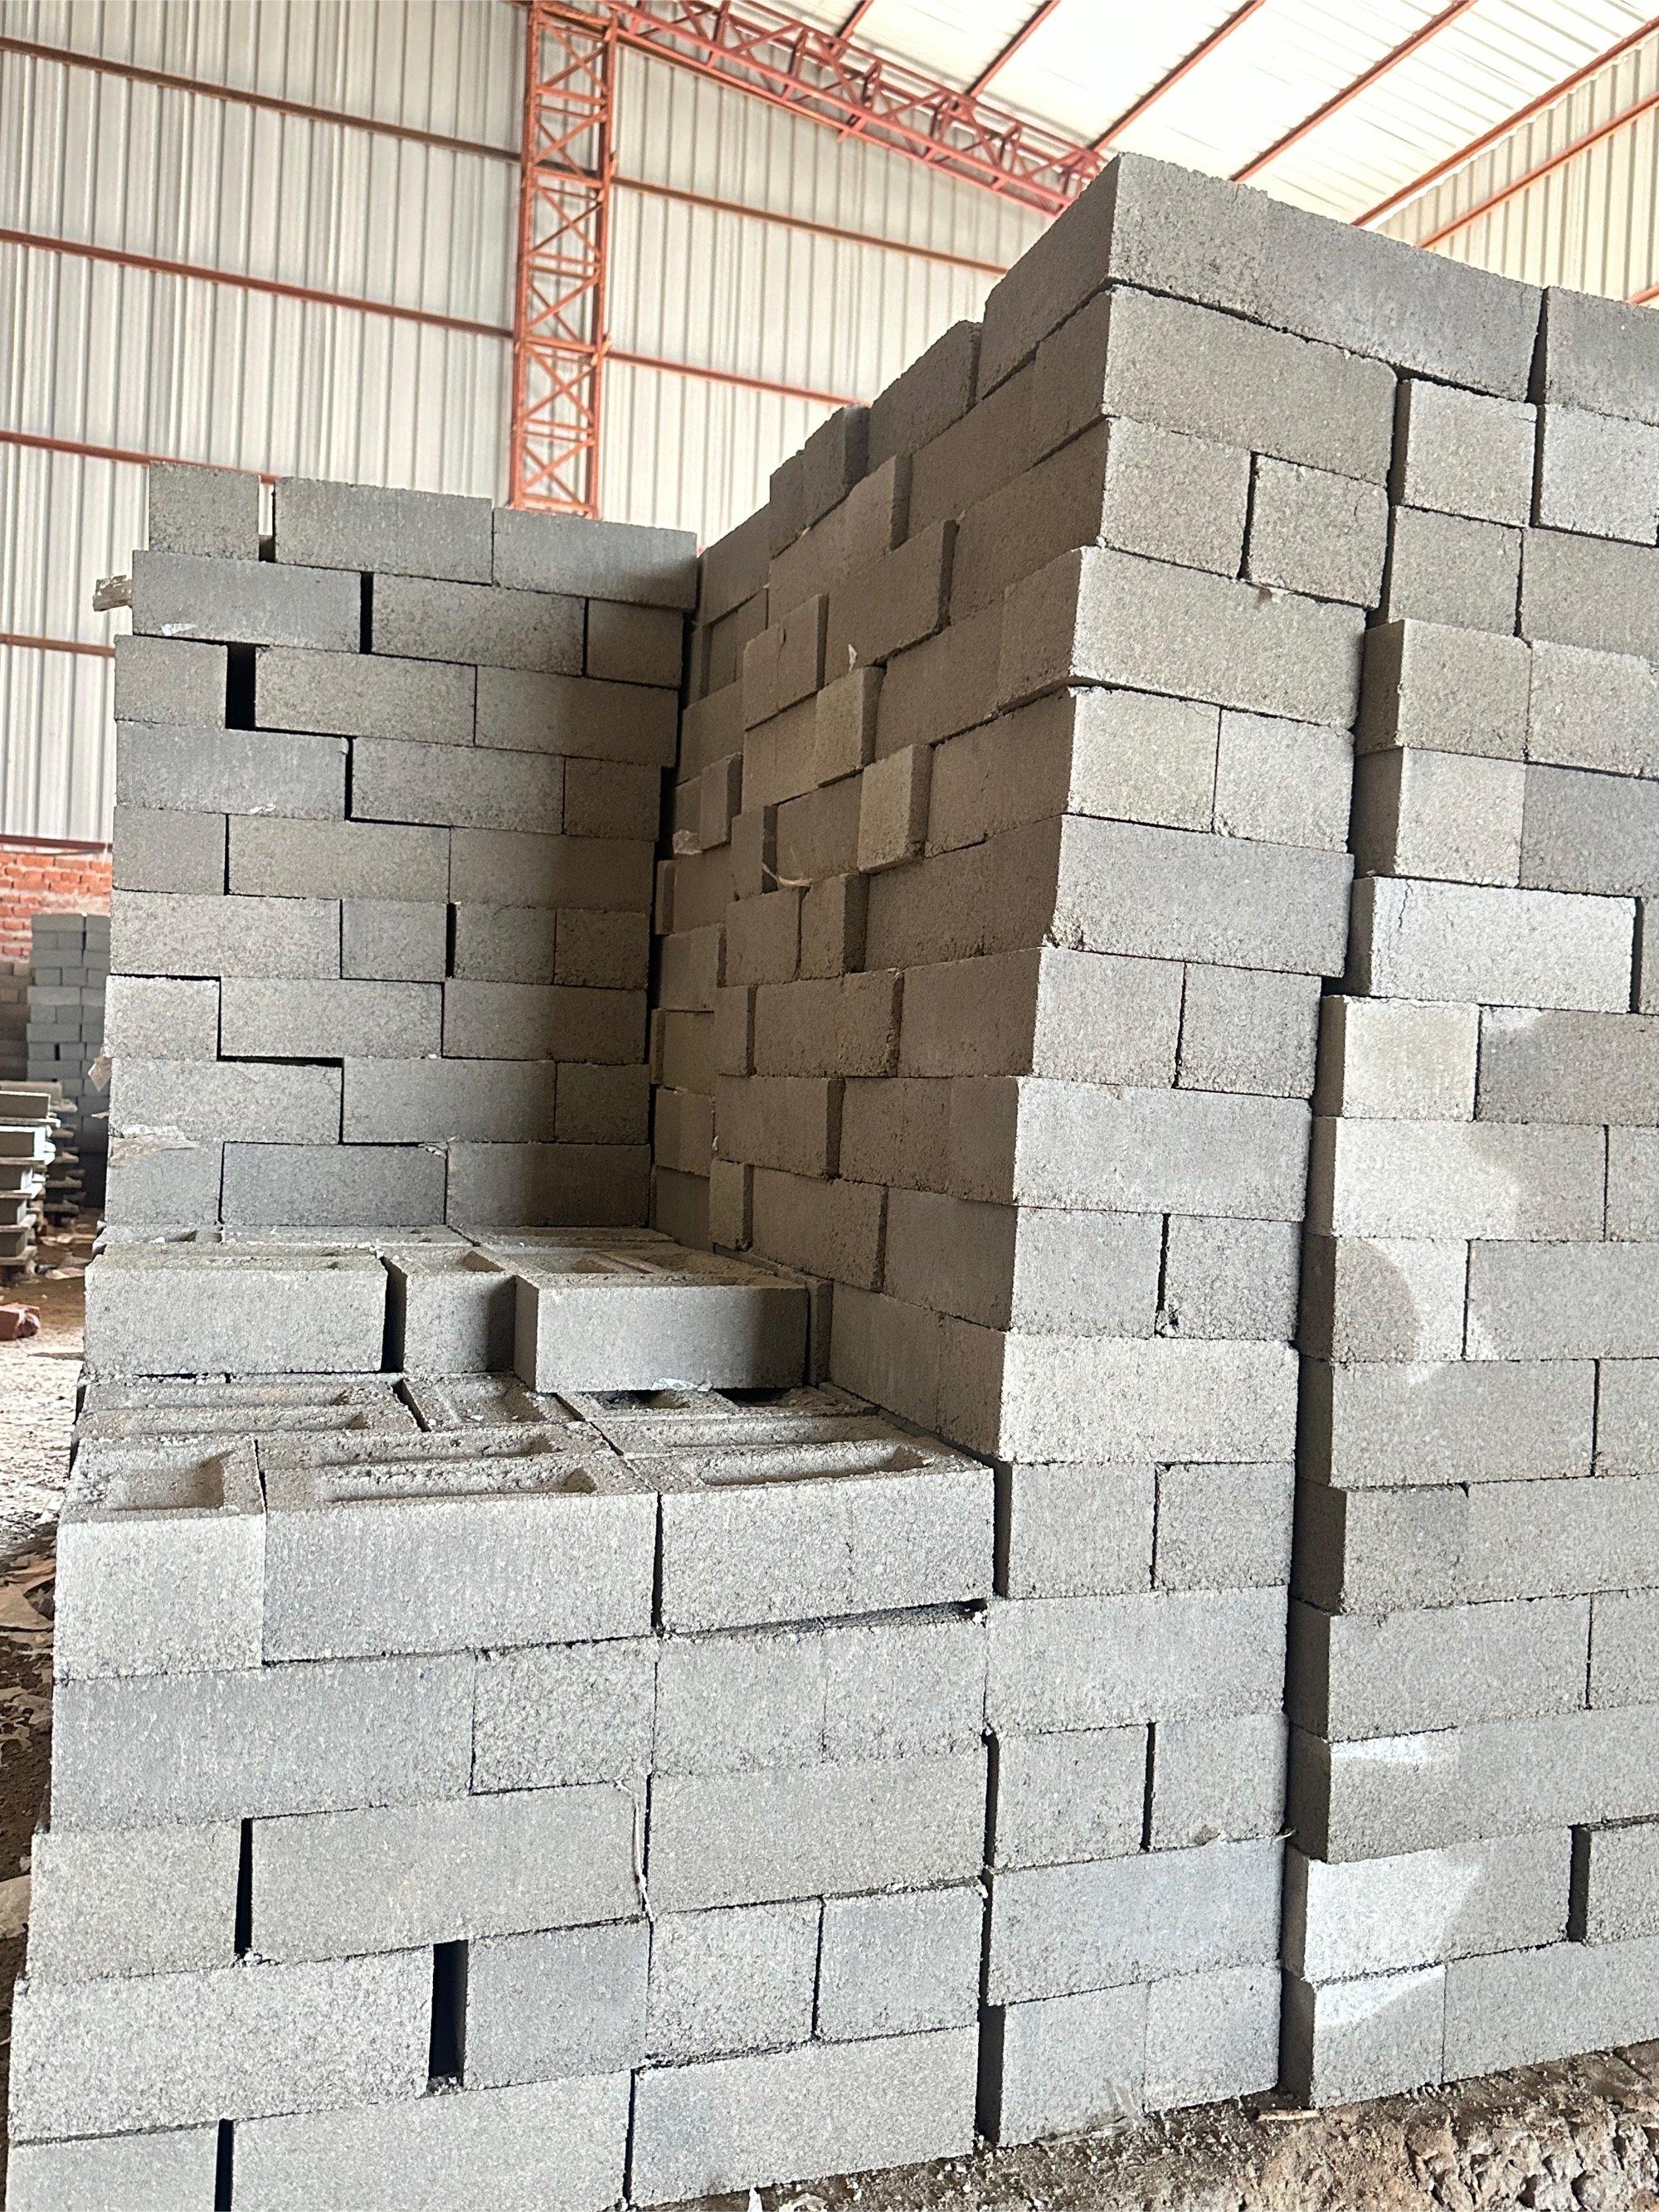Bricks: (1115, 146, 1556, 406), (23, 1942, 443, 2107), (1079, 545, 1394, 725), (78, 1676, 474, 1818), (1098, 301, 1413, 470), (910, 289, 1112, 542), (620, 2043, 985, 2179), (237, 2092, 647, 2212), (263, 1806, 647, 1932), (1307, 1954, 1659, 2074), (1072, 819, 1338, 974), (286, 1522, 657, 1630), (1326, 1709, 1659, 1829), (657, 1646, 978, 1770), (1326, 1120, 1619, 1251), (673, 1484, 985, 1601), (1018, 1085, 1297, 1214), (1007, 1588, 1270, 1721), (1000, 1987, 1290, 2107), (936, 409, 1105, 613), (1300, 1834, 1570, 1961), (981, 1867, 1281, 1980), (666, 1780, 985, 1886), (78, 1266, 383, 1374), (1319, 1367, 1596, 1484), (1014, 1345, 1281, 1465), (981, 153, 1115, 390), (1371, 876, 1622, 1000), (357, 747, 666, 841), (823, 1285, 992, 1454), (1304, 1616, 1586, 1717), (849, 819, 1063, 948), (920, 676, 1072, 857), (49, 1822, 244, 1958), (477, 1656, 660, 1789), (845, 604, 1000, 756), (68, 1529, 282, 1637), (471, 1952, 643, 2085), (660, 1926, 819, 2069), (540, 1303, 777, 1397), (1481, 1474, 1659, 1597), (293, 474, 488, 585), (835, 1085, 1021, 1198), (1164, 1221, 1330, 1348), (260, 646, 477, 740), (1000, 1461, 1161, 1588), (880, 1198, 1030, 1334), (1255, 458, 1398, 597), (755, 481, 887, 631), (244, 819, 462, 909), (477, 662, 666, 766), (1391, 627, 1537, 759), (113, 728, 354, 808), (831, 1897, 969, 2036), (94, 1059, 331, 1139), (376, 578, 575, 672), (1206, 725, 1356, 848), (1473, 1254, 1659, 1353), (1180, 951, 1312, 1090), (1011, 1217, 1164, 1338), (136, 564, 361, 643), (1112, 425, 1232, 571), (1394, 756, 1525, 890), (1049, 942, 1176, 1078), (1164, 1454, 1277, 1604), (1488, 1019, 1659, 1116), (451, 988, 673, 1062), (230, 1153, 458, 1224), (887, 961, 1030, 1075), (1530, 536, 1659, 662), (1534, 308, 1659, 435), (1530, 766, 1659, 890), (1394, 383, 1511, 519), (237, 981, 439, 1059), (699, 1078, 861, 1176), (519, 507, 683, 601), (136, 909, 342, 984), (350, 1062, 549, 1139), (1333, 1003, 1473, 1111), (744, 672, 857, 805), (763, 1165, 887, 1285), (760, 974, 917, 1068), (1147, 1728, 1284, 1834), (448, 1162, 643, 1237), (1026, 1731, 1150, 1848), (1093, 711, 1202, 841), (30, 2144, 234, 2212), (1338, 1247, 1466, 1353), (1391, 510, 1514, 617), (471, 834, 653, 906), (683, 488, 767, 643), (1537, 413, 1642, 529), (831, 542, 932, 662), (1537, 662, 1659, 759), (94, 1146, 225, 1237), (153, 458, 260, 568), (864, 338, 958, 462), (774, 409, 852, 552), (1356, 1507, 1469, 1604), (737, 613, 826, 733), (406, 1289, 519, 1379), (101, 805, 225, 876), (777, 789, 861, 890), (105, 996, 218, 1068), (1000, 564, 1056, 707), (556, 925, 657, 1000), (591, 608, 688, 685), (1593, 1364, 1659, 1474), (124, 653, 230, 721), (714, 899, 796, 984), (451, 916, 549, 988), (1593, 1825, 1659, 1928), (357, 909, 455, 974), (549, 1071, 650, 1127), (688, 688, 748, 782), (1612, 1116, 1659, 1233), (737, 808, 789, 906), (864, 744, 913, 845), (793, 890, 852, 970), (1601, 1623, 1659, 1698)
